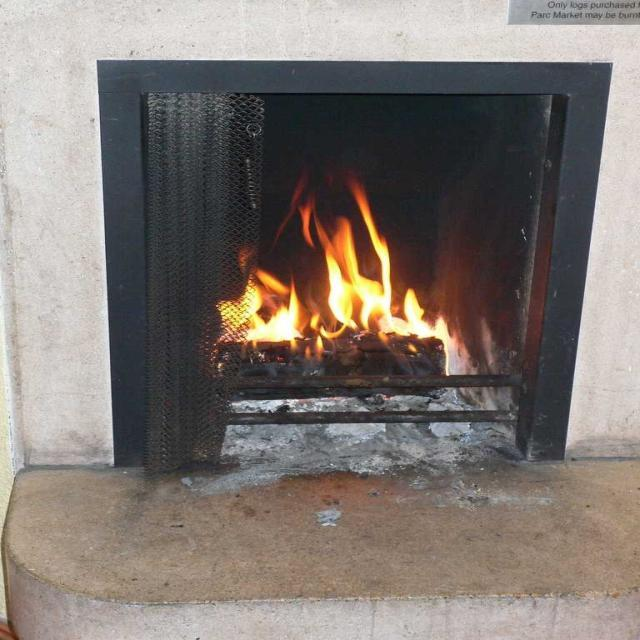Fire: (254, 190, 444, 348)
